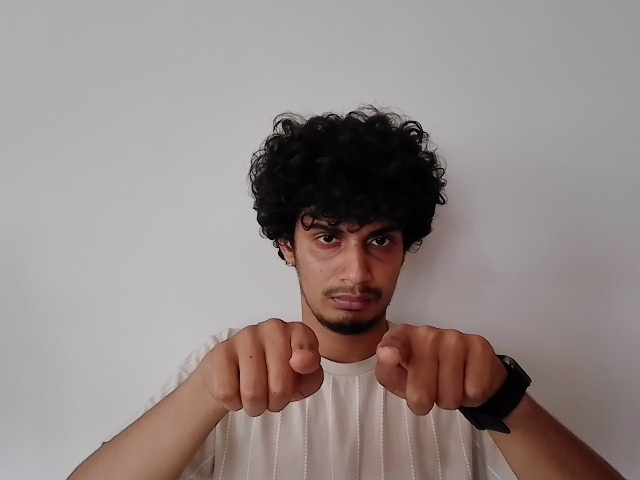same: (204, 317, 505, 428)
